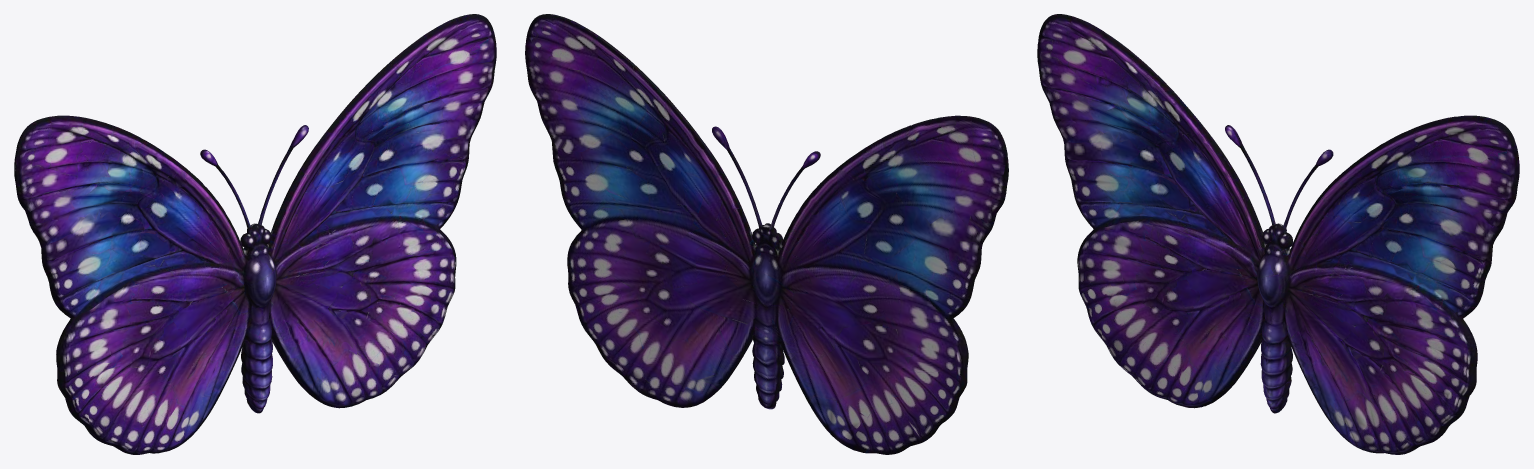
Rendered from butterfly-purple.glb.
3 views of the same model, side by side, from view 1: azimuth 30°, elevation 25°; view 2: azimuth 150°, elevation 25°; view 3: azimuth 330°, elevation 25° (orthographic).
Bounding box in the file's own units: 1.9 × 1.36 × 0.0968.
1 material, 1 textured.
